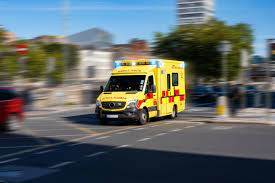special: (94, 56, 187, 125)
